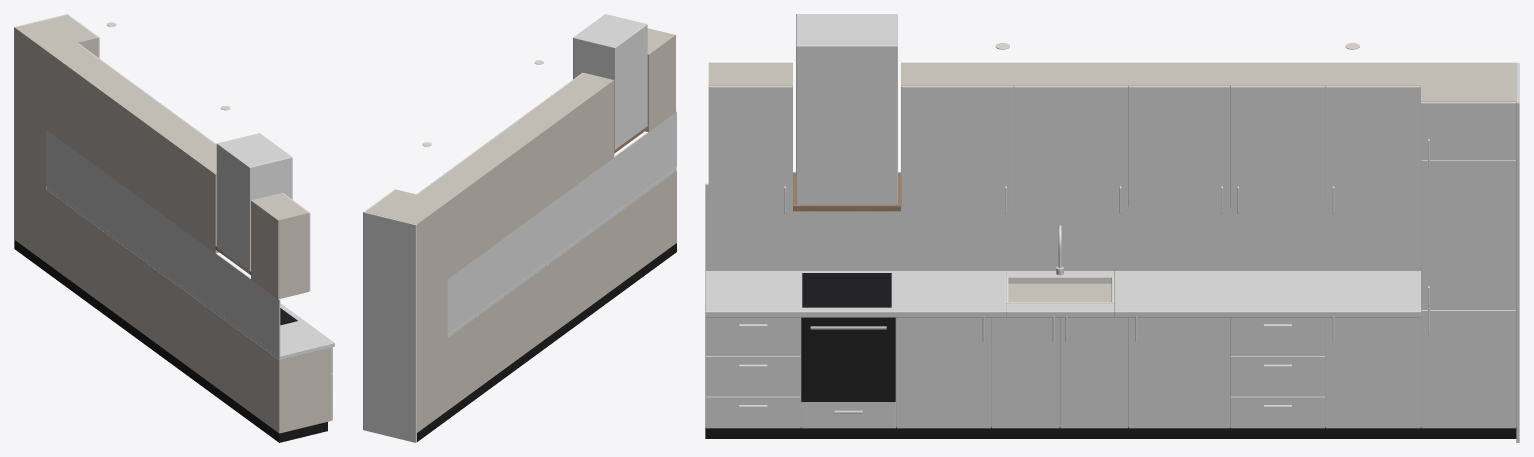
The model's file is kitchen__1_1.glb.
3 renders of one model, left to right at view 1: azimuth 30°, elevation 25°; view 2: azimuth 150°, elevation 25°; view 3: azimuth 270°, elevation 25°, orthographic. The views are drawn at different scales.
Parts seen in each view (by area): view 1: upper carcass, carcass, splashback, tall carcass, hood, plinth, worktop, upper fronts; view 2: upper carcass, carcass, splashback, fridge end panel, tall carcass, hood, plinth, worktop, upper fronts; view 3: fronts, upper fronts, splashback, worktop, hood, upper carcass, plinth, oven, tall carcass, carcass, hob, fridge end panel (+2 smaller).
Part boxes in pixels (box(x1,y1,x2,y2)): upper carcass: box(46, 43, 308, 299); carcass: box(46, 189, 331, 433); splashback: box(46, 129, 280, 356); tall carcass: box(15, 15, 98, 262); hood: box(216, 133, 292, 273); plinth: box(15, 240, 327, 442); worktop: box(46, 186, 334, 359); upper fronts: box(77, 43, 310, 291); upper carcass: box(418, 28, 675, 278); carcass: box(447, 171, 676, 410); splashback: box(447, 111, 676, 334); fridge end panel: box(363, 211, 416, 442); tall carcass: box(366, 189, 447, 432); hood: box(573, 14, 647, 149); plinth: box(417, 243, 676, 441); worktop: box(447, 167, 676, 337); upper fronts: box(416, 72, 583, 194); fronts: box(705, 102, 1515, 428); upper fronts: box(709, 86, 1420, 207); splashback: box(705, 183, 1420, 270); worktop: box(705, 271, 1420, 317); hood: box(796, 14, 897, 204); upper carcass: box(708, 62, 1420, 206); plinth: box(705, 427, 1516, 438); oven: box(801, 317, 895, 402); tall carcass: box(1421, 62, 1516, 426); carcass: box(705, 283, 1420, 427); hob: box(802, 273, 891, 307); fridge end panel: box(1516, 63, 1519, 442).
Bounding box in the file's own units: 0.63 × 2.7 × 5.12.
15 materials, 1 textured.
